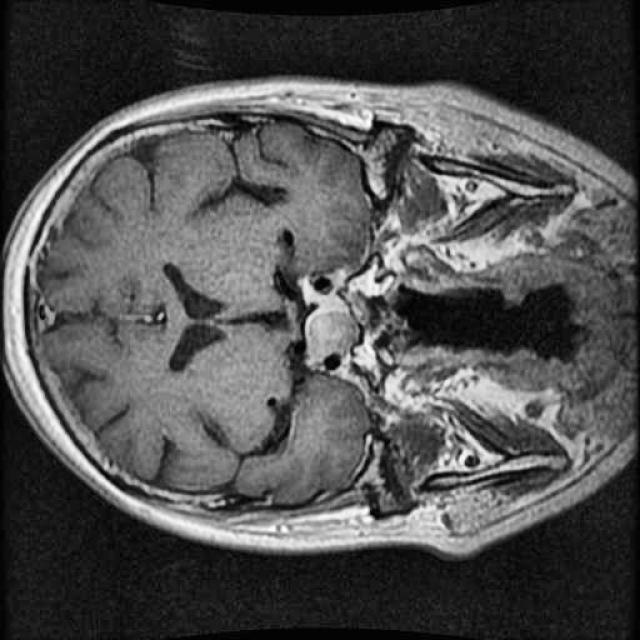Tumor: (288, 284, 389, 390)
